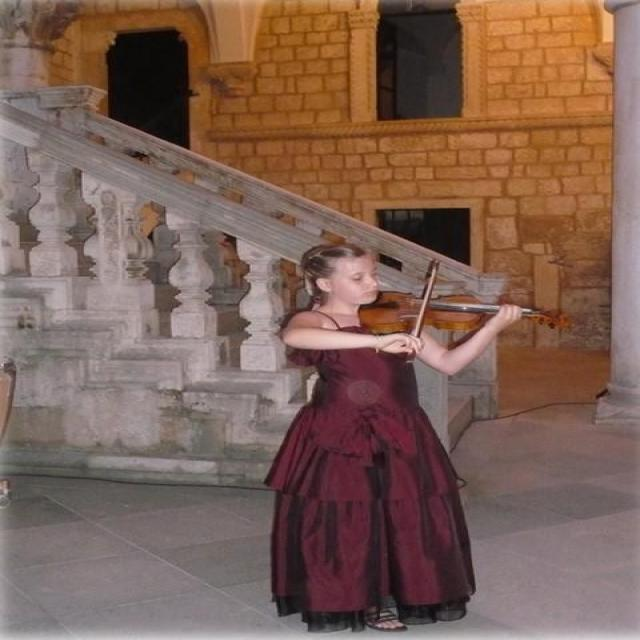violin: (354, 291, 574, 336)
